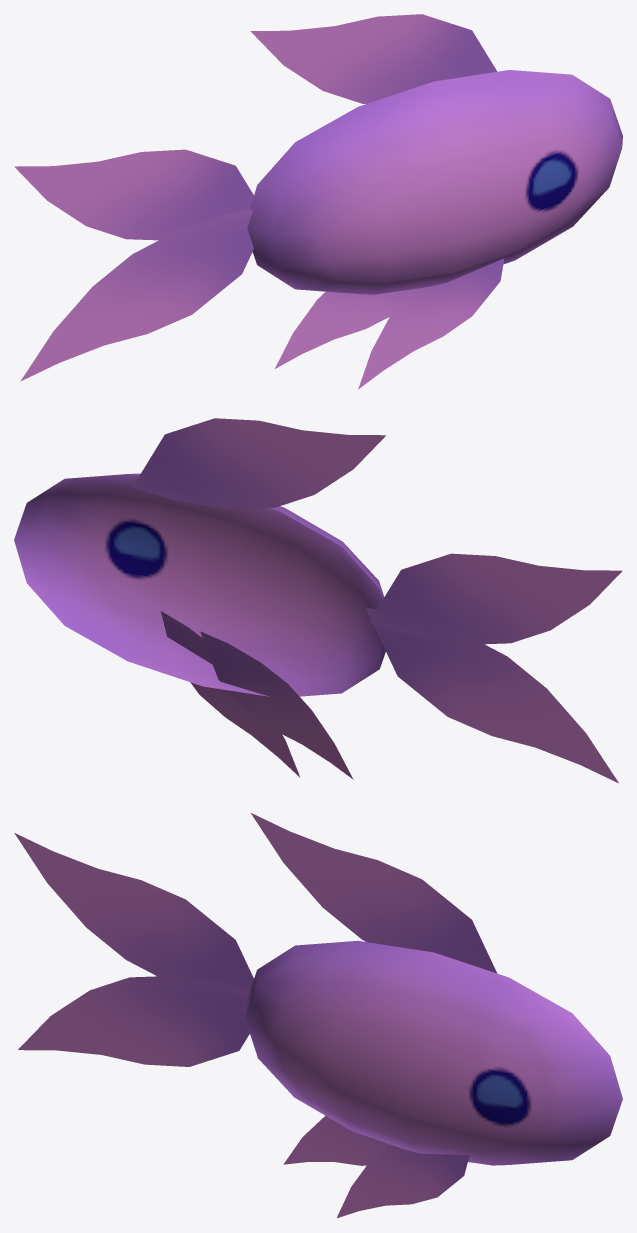
The model's file is Fish001.fbx.
3 renders of one model, top to bottom at view 1: azimuth 30°, elevation 25°; view 2: azimuth 150°, elevation 25°; view 3: azimuth 330°, elevation 25°, orthographic.
Visible parts, largest first — view 1: fish1; view 2: fish1; view 3: fish1.
Boxes of the visible parts, x1,y1,x2,y2 form: fish1: [14, 14, 622, 389]; fish1: [14, 418, 622, 783]; fish1: [14, 813, 622, 1217].
Size of the model in its own units: 1.14 by 0.6726 by 0.1131.
1 material, 1 textured.
